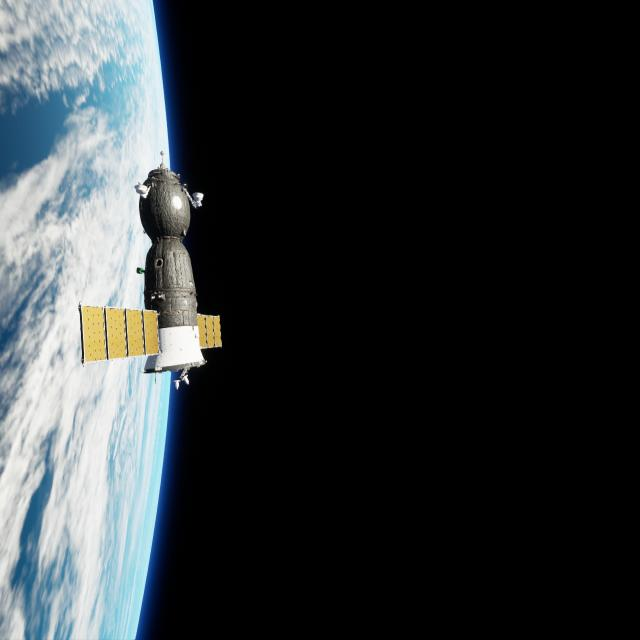Satellites revolving around earth: (77, 148, 225, 393)
